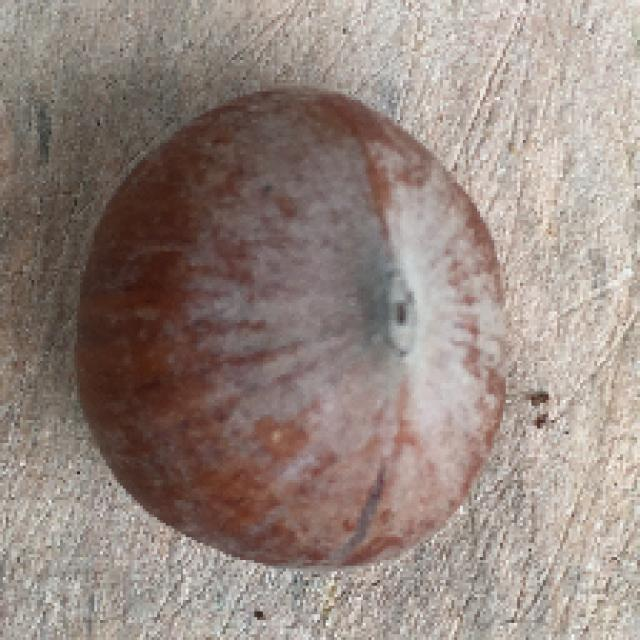qualityHazelnut: (57, 84, 518, 578)
